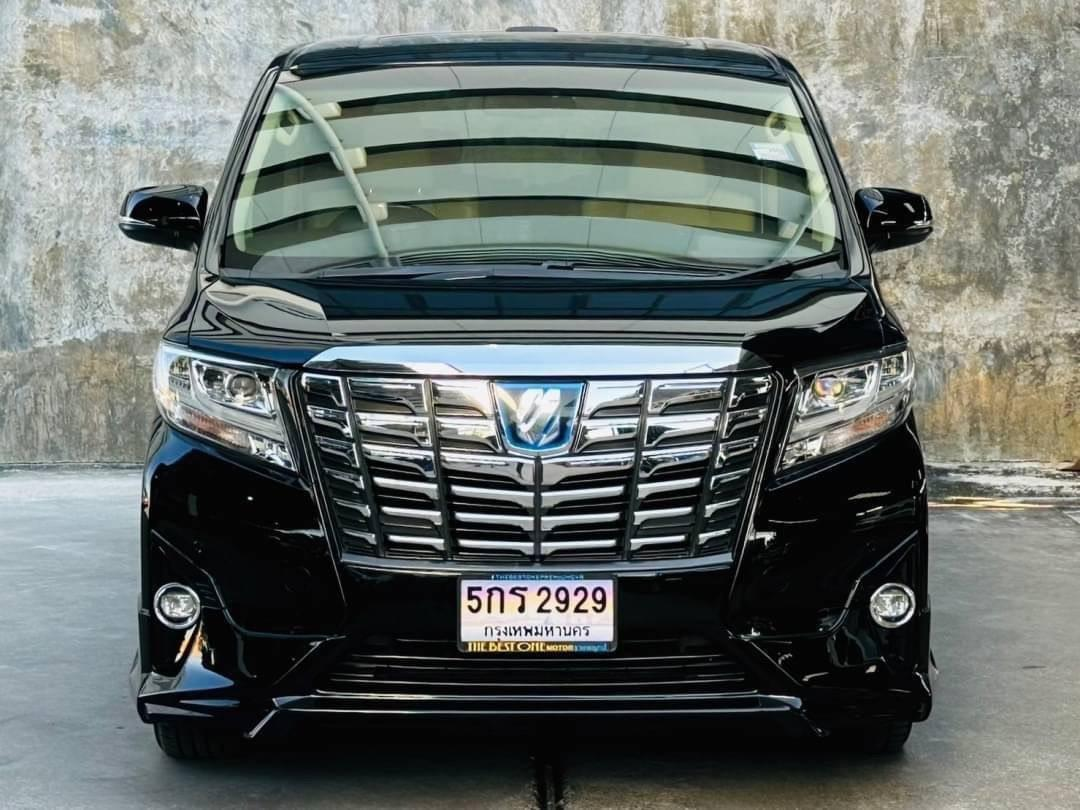license-plate: (454, 571, 617, 659)
